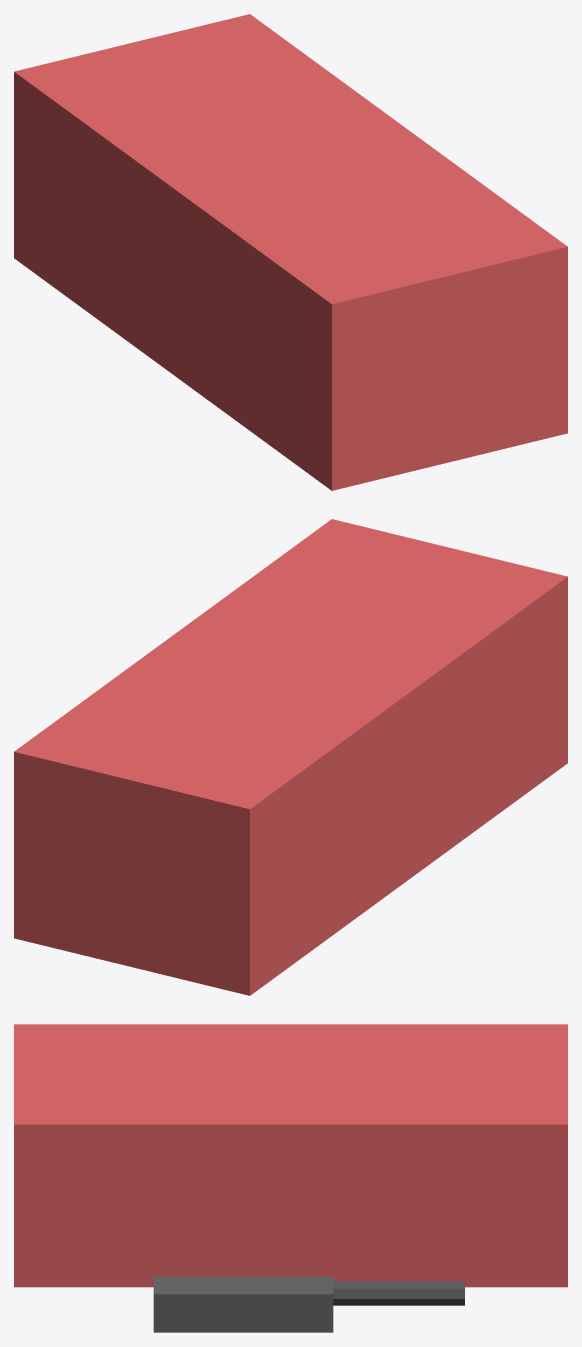
File: building_gas_pump_red.glb
3 renders of one model, top to bottom at view 1: azimuth 30°, elevation 25°; view 2: azimuth 150°, elevation 25°; view 3: azimuth 270°, elevation 25°, orthographic. The views are drawn at different scales.
Visible parts, largest first — view 1: pump_body; view 2: pump_body; view 3: pump_body, nozzle, hose.
Boxes of the visible parts, box(x1,y1,x2,y2) form: pump_body: box(14, 14, 567, 490); pump_body: box(14, 519, 567, 995); pump_body: box(14, 1024, 567, 1287); nozzle: box(153, 1276, 333, 1332); hose: box(333, 1281, 464, 1305).
Size of the model in its own units: 0.545 by 0.39 by 1.05.
